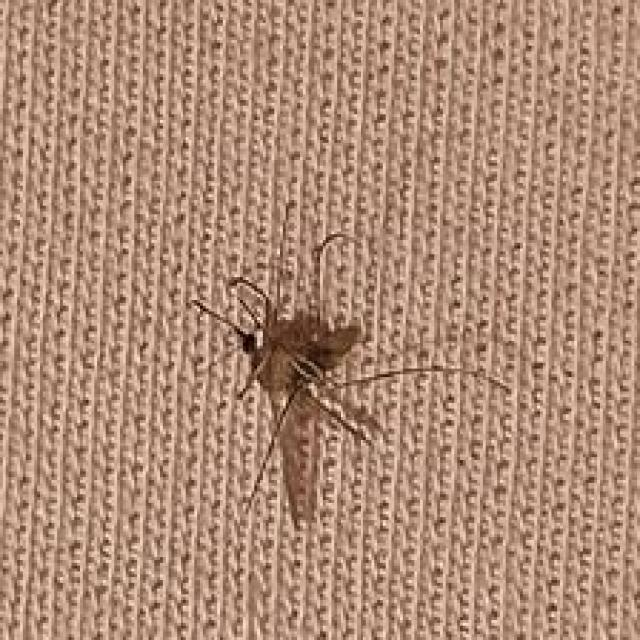Culex: (187, 230, 513, 533)
